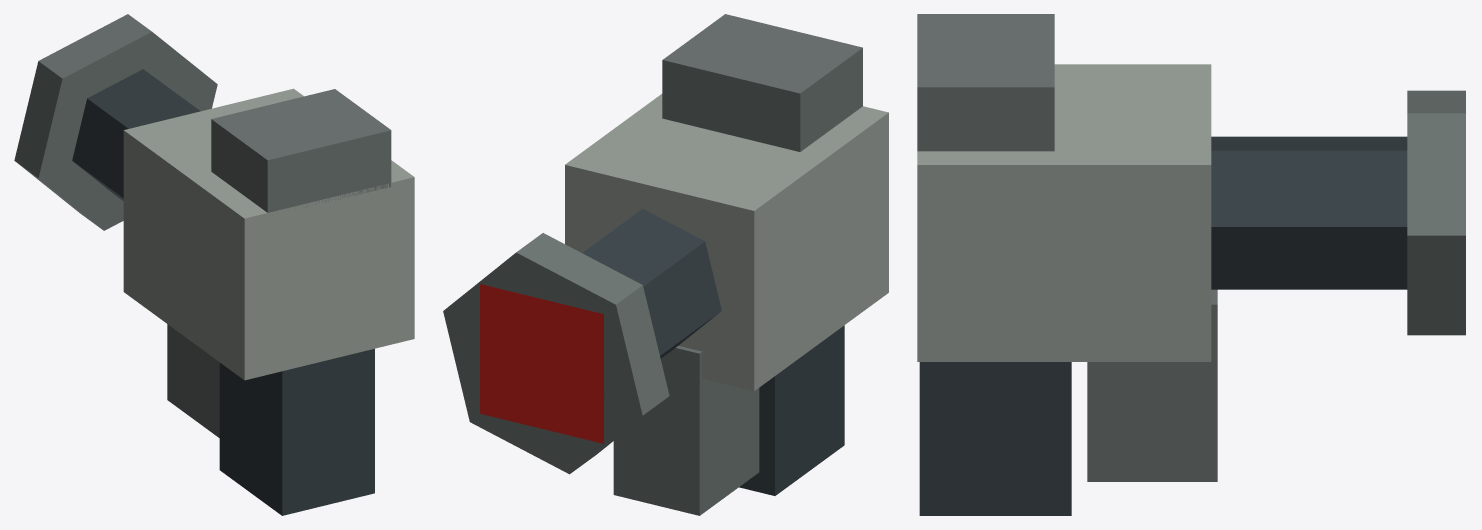
3 renders of one model, left to right at view 1: azimuth 30°, elevation 25°; view 2: azimuth 150°, elevation 25°; view 3: azimuth 270°, elevation 25°, orthographic. The views are drawn at different scales.
Parts seen in each view (by area): view 1: mount; view 2: mount; view 3: mount.
Part boxes in pixels (box(x1,y1,x2,y2)): mount: box(14, 14, 414, 515); mount: box(443, 14, 888, 515); mount: box(917, 14, 1465, 515).
Bounding box in the file's own units: 4.52 × 8.68 × 9.89.
